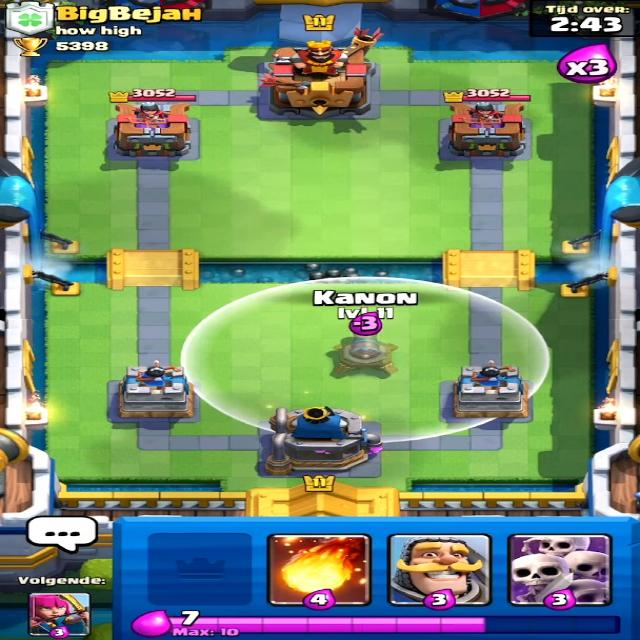Fireball_Card: (271, 534, 367, 610)
